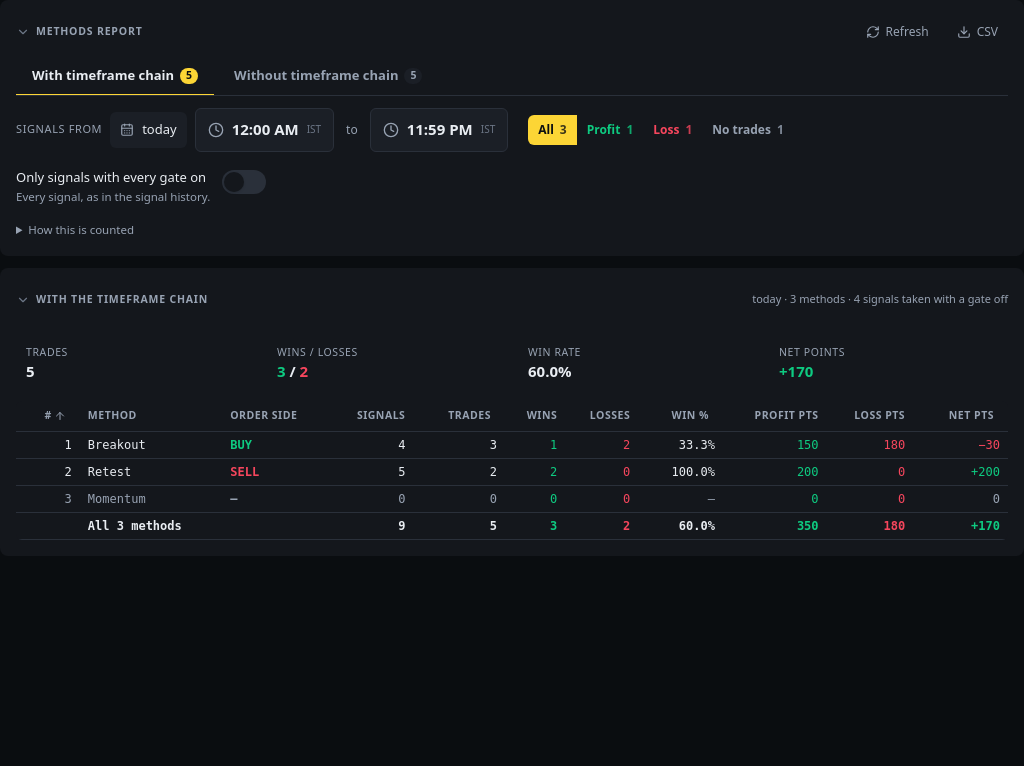
it: the Methods report › [critical] a timeframe tab shows that timeframe alone -- and asks the server for nothing
Click the tab "Without timeframe chain 5" at (328, 77), box [218, 58, 438, 96]
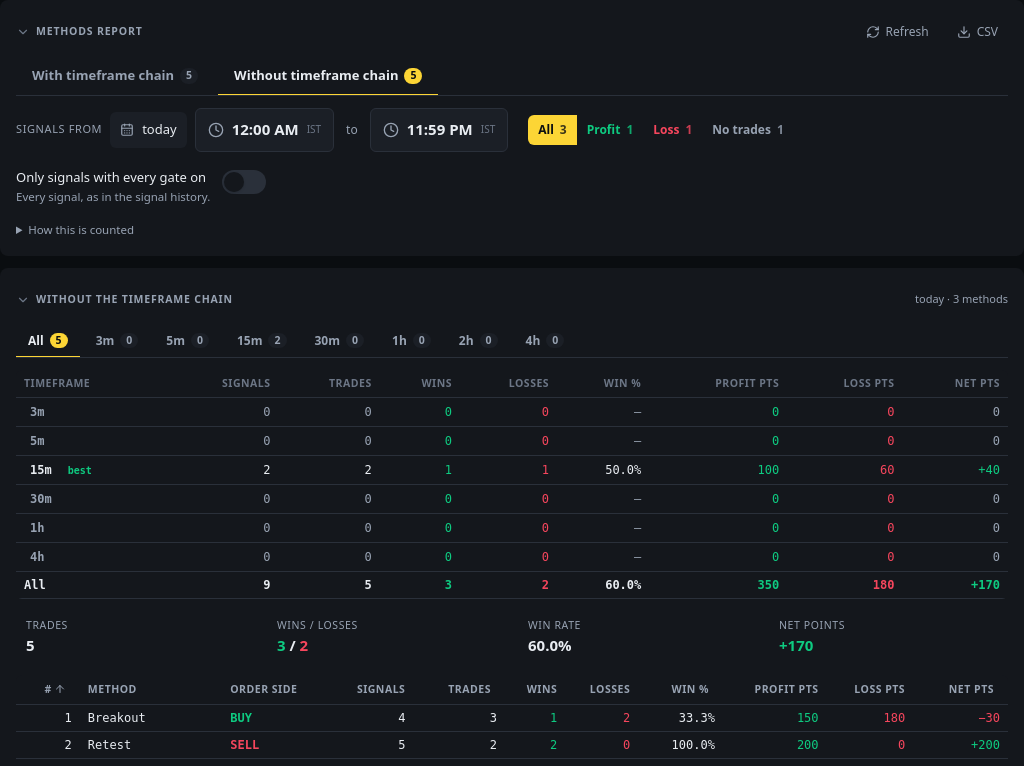
Click the tab "15m 2" at (262, 342), box [225, 326, 298, 358]
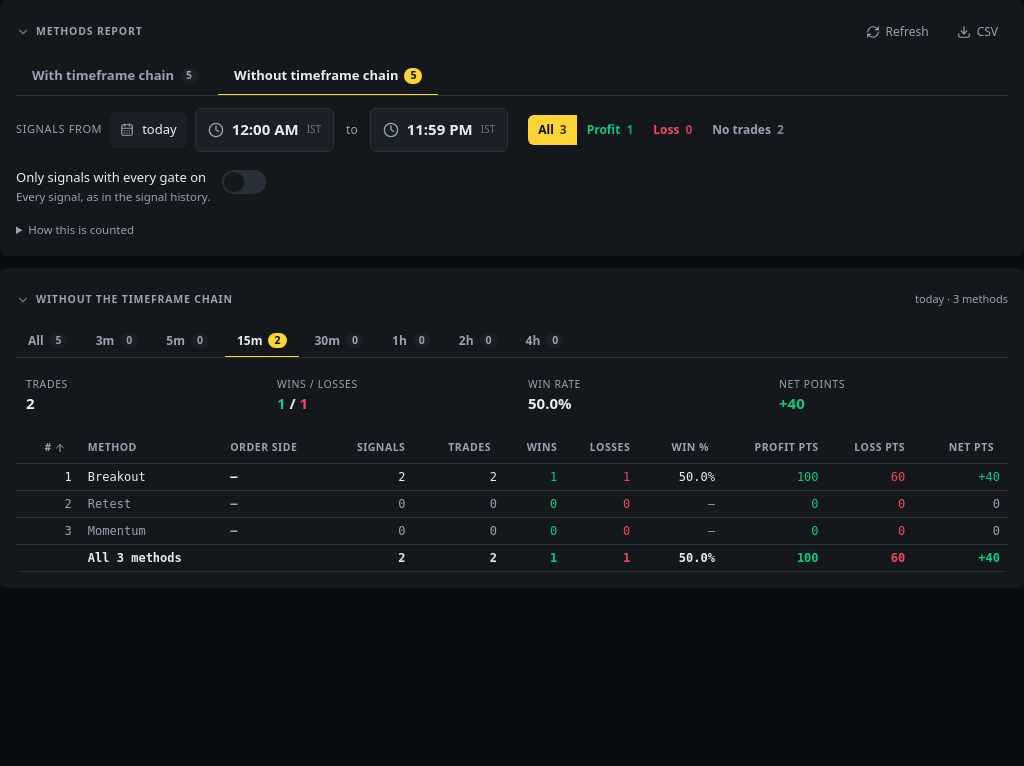
Expected: the text "Breakout" shows "50.0%", [679, 470, 715, 484]
